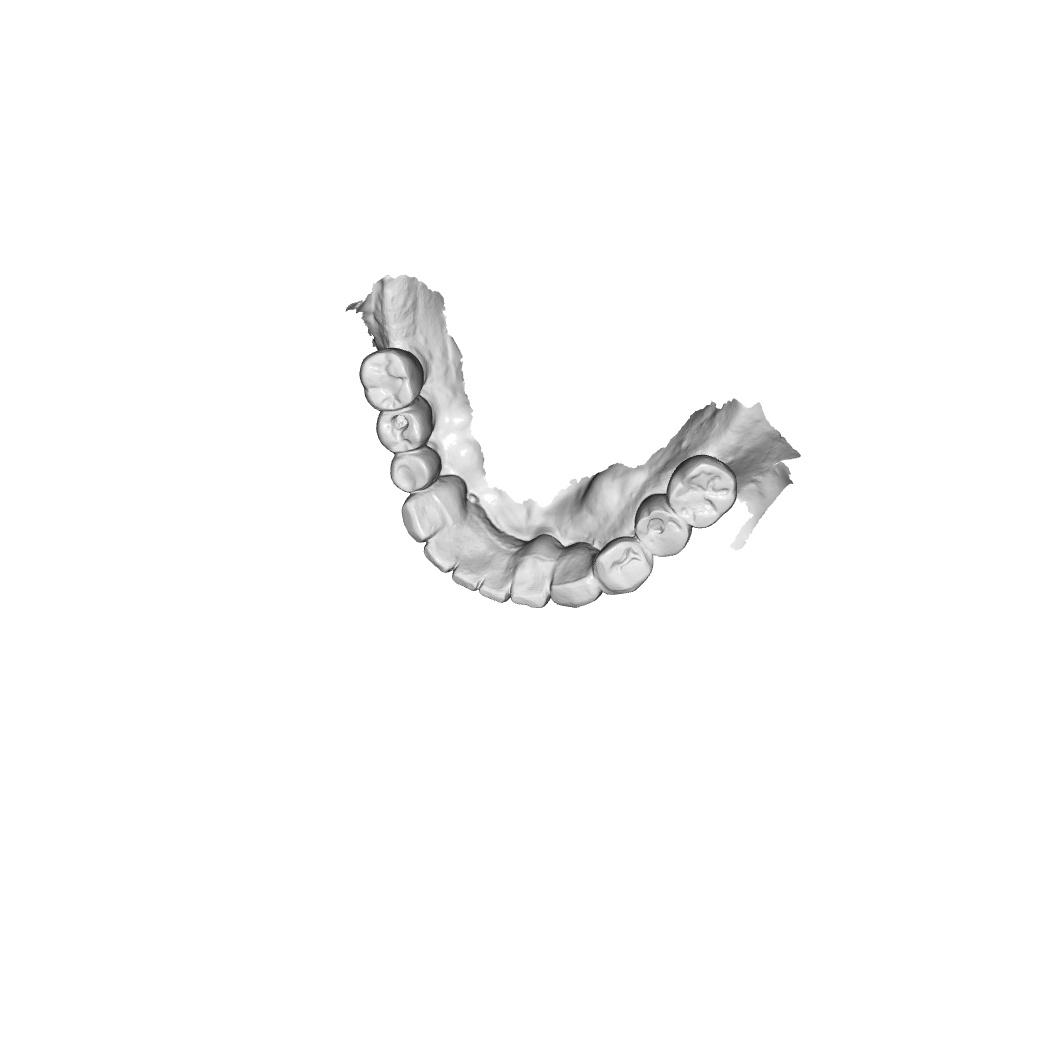canine: (549, 541, 603, 609), (400, 485, 458, 543)
incisor: (422, 526, 466, 574), (510, 568, 554, 609), (478, 561, 513, 604), (451, 553, 486, 592)
molar: (665, 453, 739, 530), (358, 347, 425, 412)
premolar: (633, 493, 693, 558), (592, 536, 654, 595), (374, 396, 435, 454), (389, 446, 443, 494)
